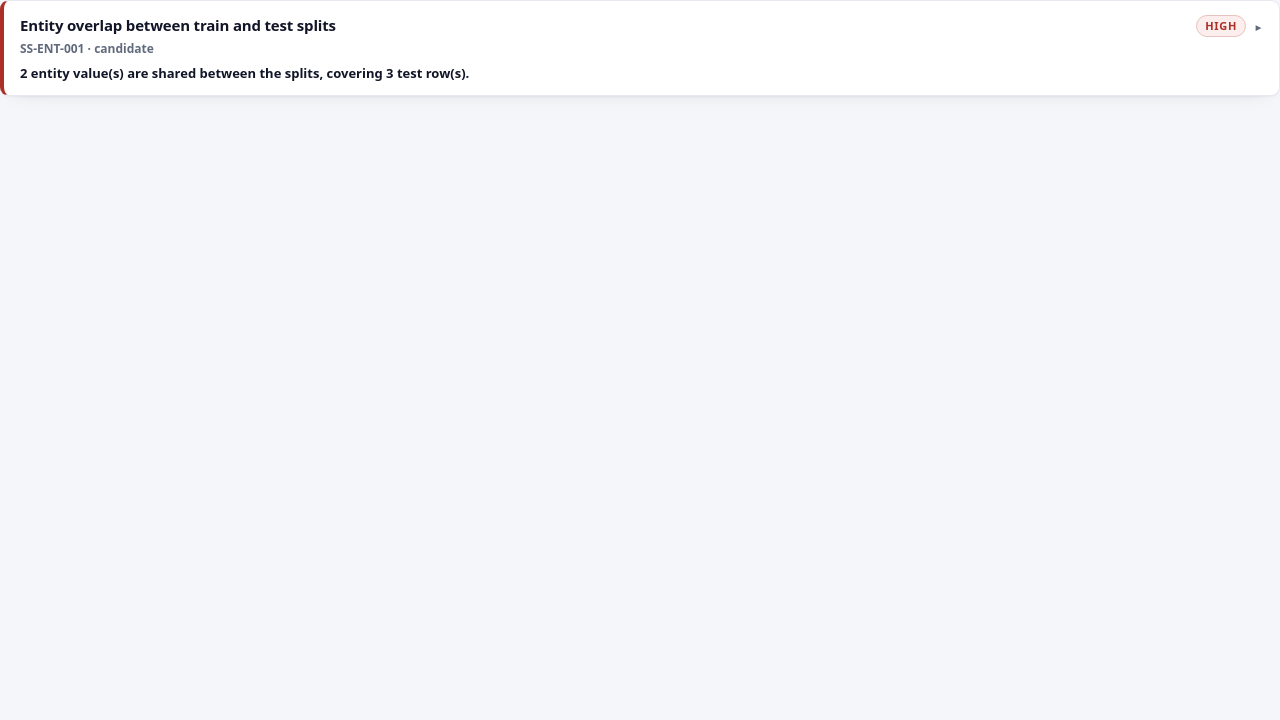
it: explanation levels › renders run context on the technical level when the view supplies it
What coordinates should you click on to do the following:
click the button "Entity overlap between train and test splits"
I would click on:
 (178, 25)
Its box is [20,13,1184,83].
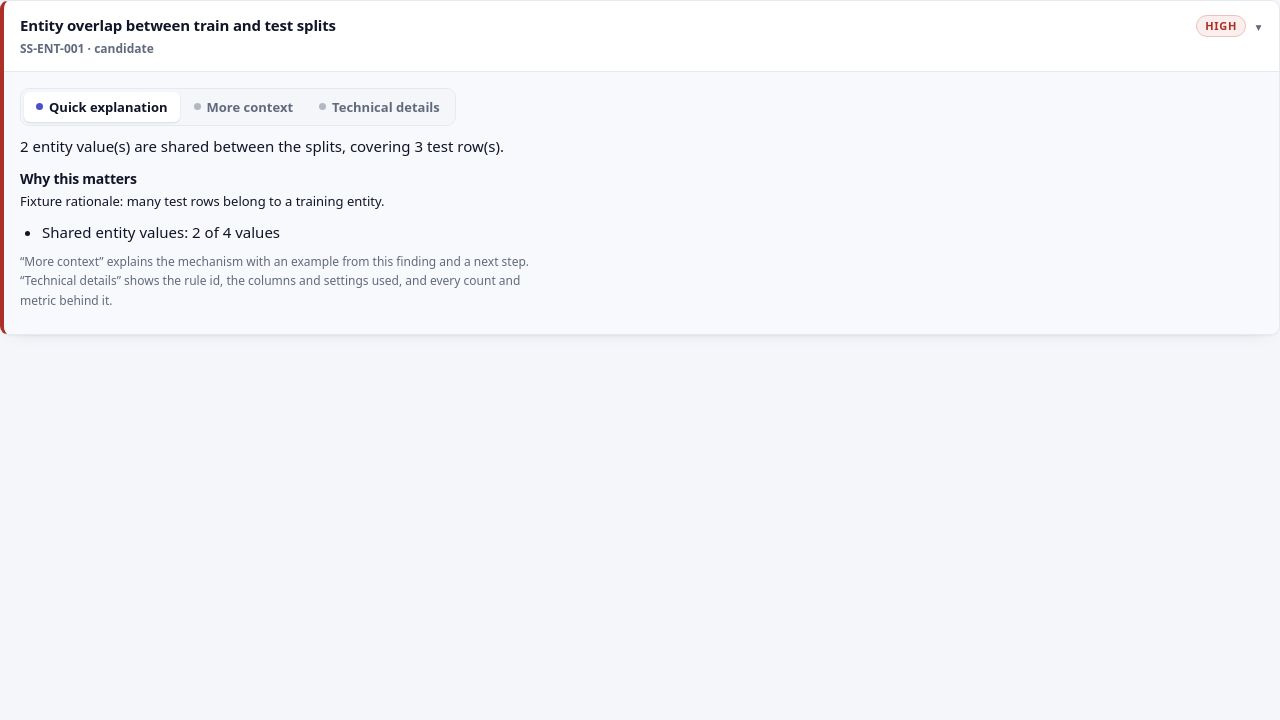
What coordinates should you click on to do the following:
click the button "Technical details"
I would click on:
 (379, 107)
Its box is [307,92,452,122].
(page scrolled)
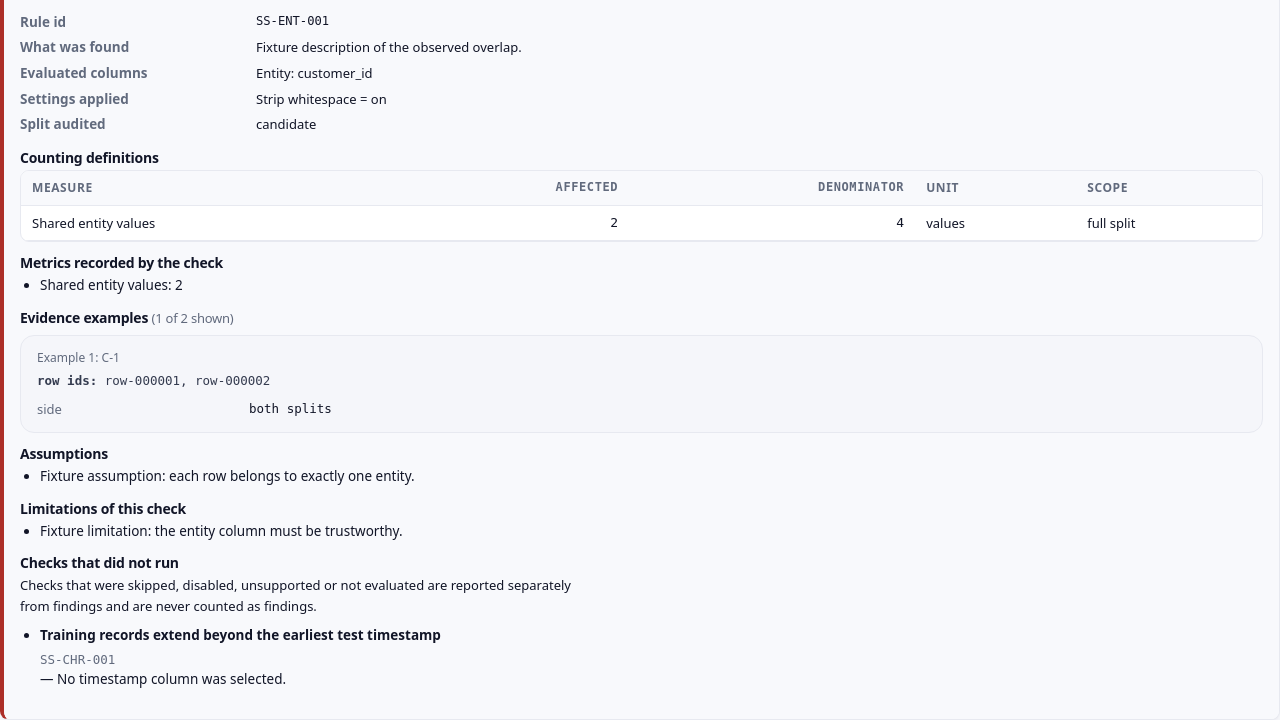
Expected: the list item "Shared entity values: 2" is shown, [40,276,183,294]
Expected: the text "Entity: customer_id" is shown, [256,64,372,82]
Expected: the text "Strip whitespace = on" is shown, [256,90,387,108]
